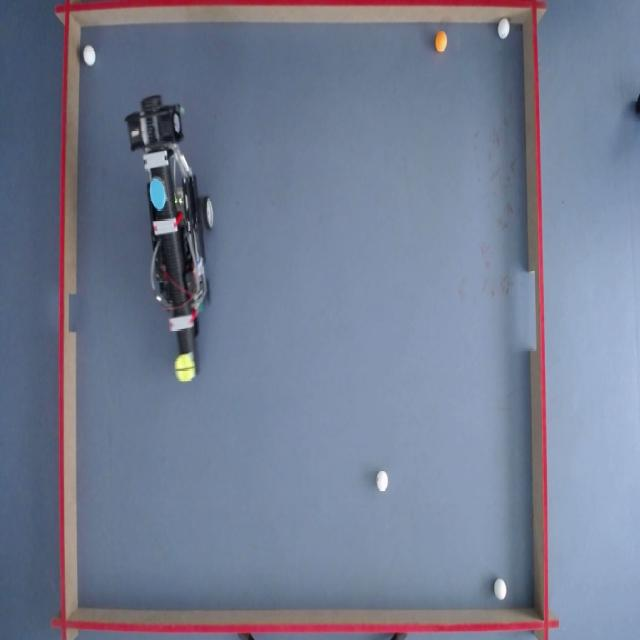orange: (435, 32, 449, 52)
robot: (133, 93, 215, 377)
robot-front: (174, 356, 197, 382)
robot-rear: (148, 176, 168, 212)
white: (495, 578, 509, 601), (375, 470, 389, 492), (499, 18, 512, 39), (84, 46, 97, 66)
